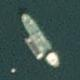ship: (0, 11, 6, 67)
